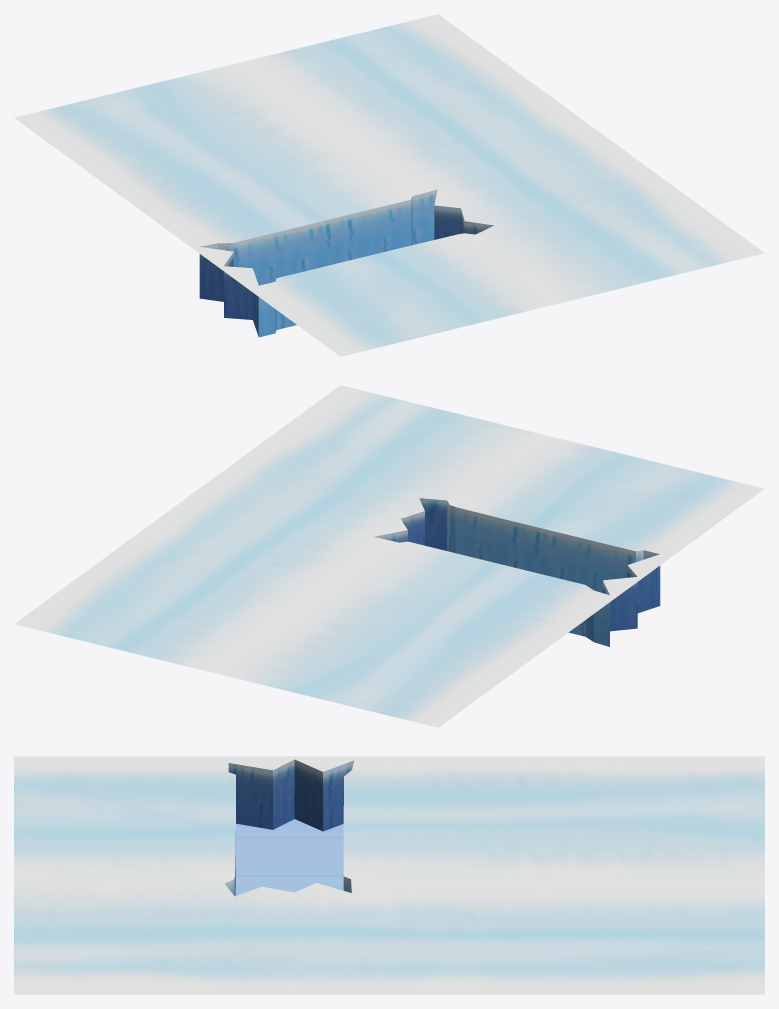
File: Hole_L_S_02_L.FBX
3 views of the same model, one above another, from view 1: azimuth 30°, elevation 25°; view 2: azimuth 150°, elevation 25°; view 3: azimuth 270°, elevation 25° (orthographic). The views are drawn at different scales.
Parts seen in each view (by area): view 1: modelRoad085; view 2: modelRoad085; view 3: modelRoad085.
Part boxes in pixels (x1,y1,x2,y2): modelRoad085: (14, 14, 764, 356); modelRoad085: (14, 385, 764, 727); modelRoad085: (14, 756, 764, 994).
Size of the model in its own units: 600 by 70 by 800.
